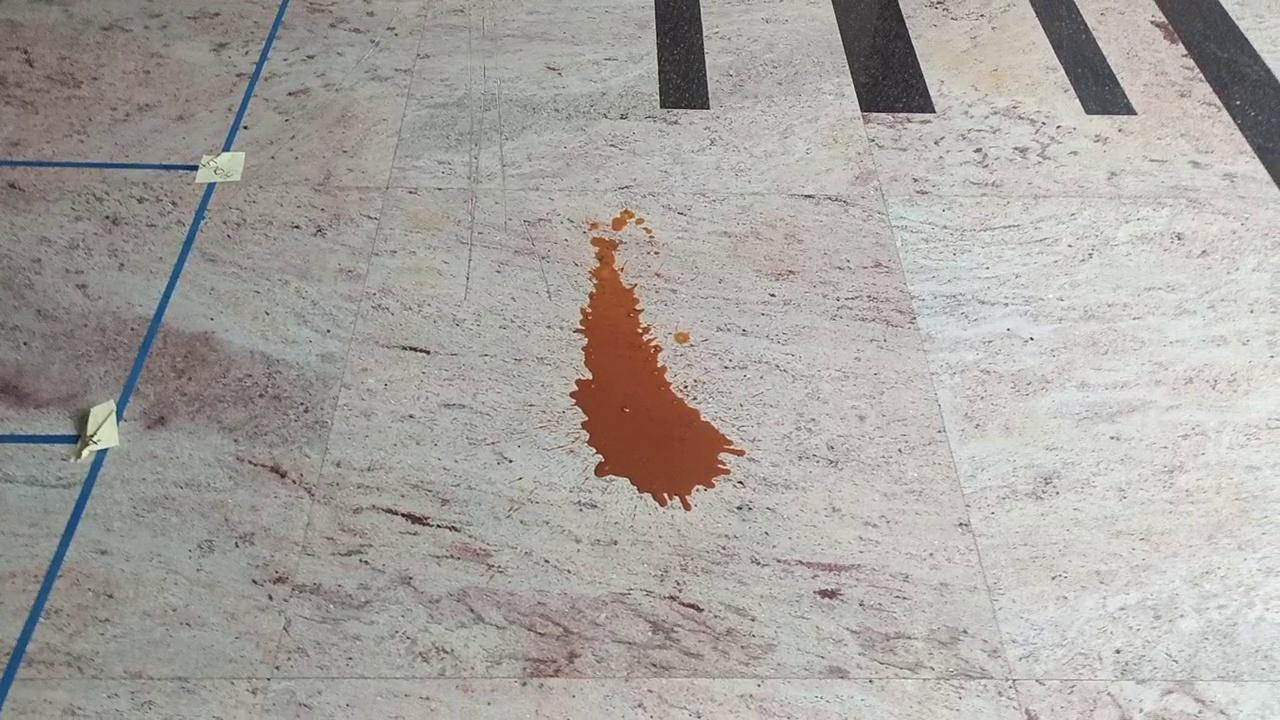dirty_floor: (566, 210, 746, 513)
